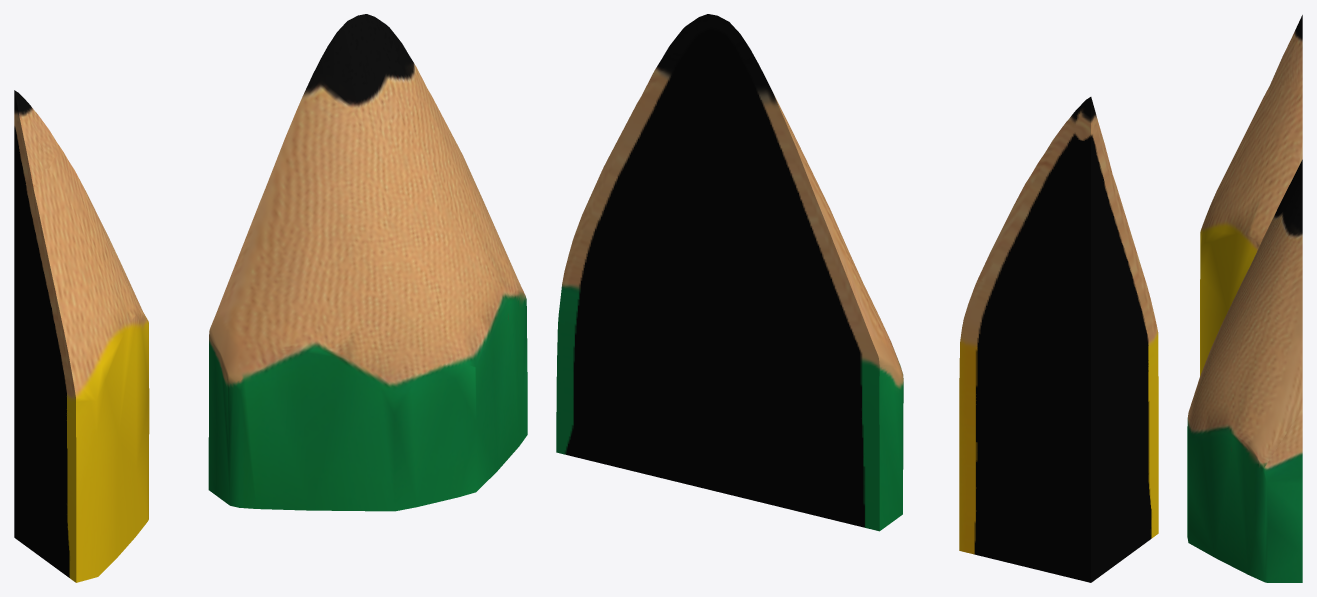
Rendered from 14-topper-front-right.fbx.
3 renders of one model, left to right at view 1: azimuth 30°, elevation 25°; view 2: azimuth 150°, elevation 25°; view 3: azimuth 270°, elevation 25°, orthographic. The views are drawn at different scales.
Visible parts, largest first — view 1: topper-front-right; view 2: topper-front-right; view 3: topper-front-right.
Boxes of the visible parts, bbox=[...] form: topper-front-right: bbox=[14, 14, 527, 582]; topper-front-right: bbox=[556, 14, 1158, 582]; topper-front-right: bbox=[1187, 15, 1302, 582].
Bounding box in the file's own units: 3167 × 2753 × 779.
1 material, 1 textured.
